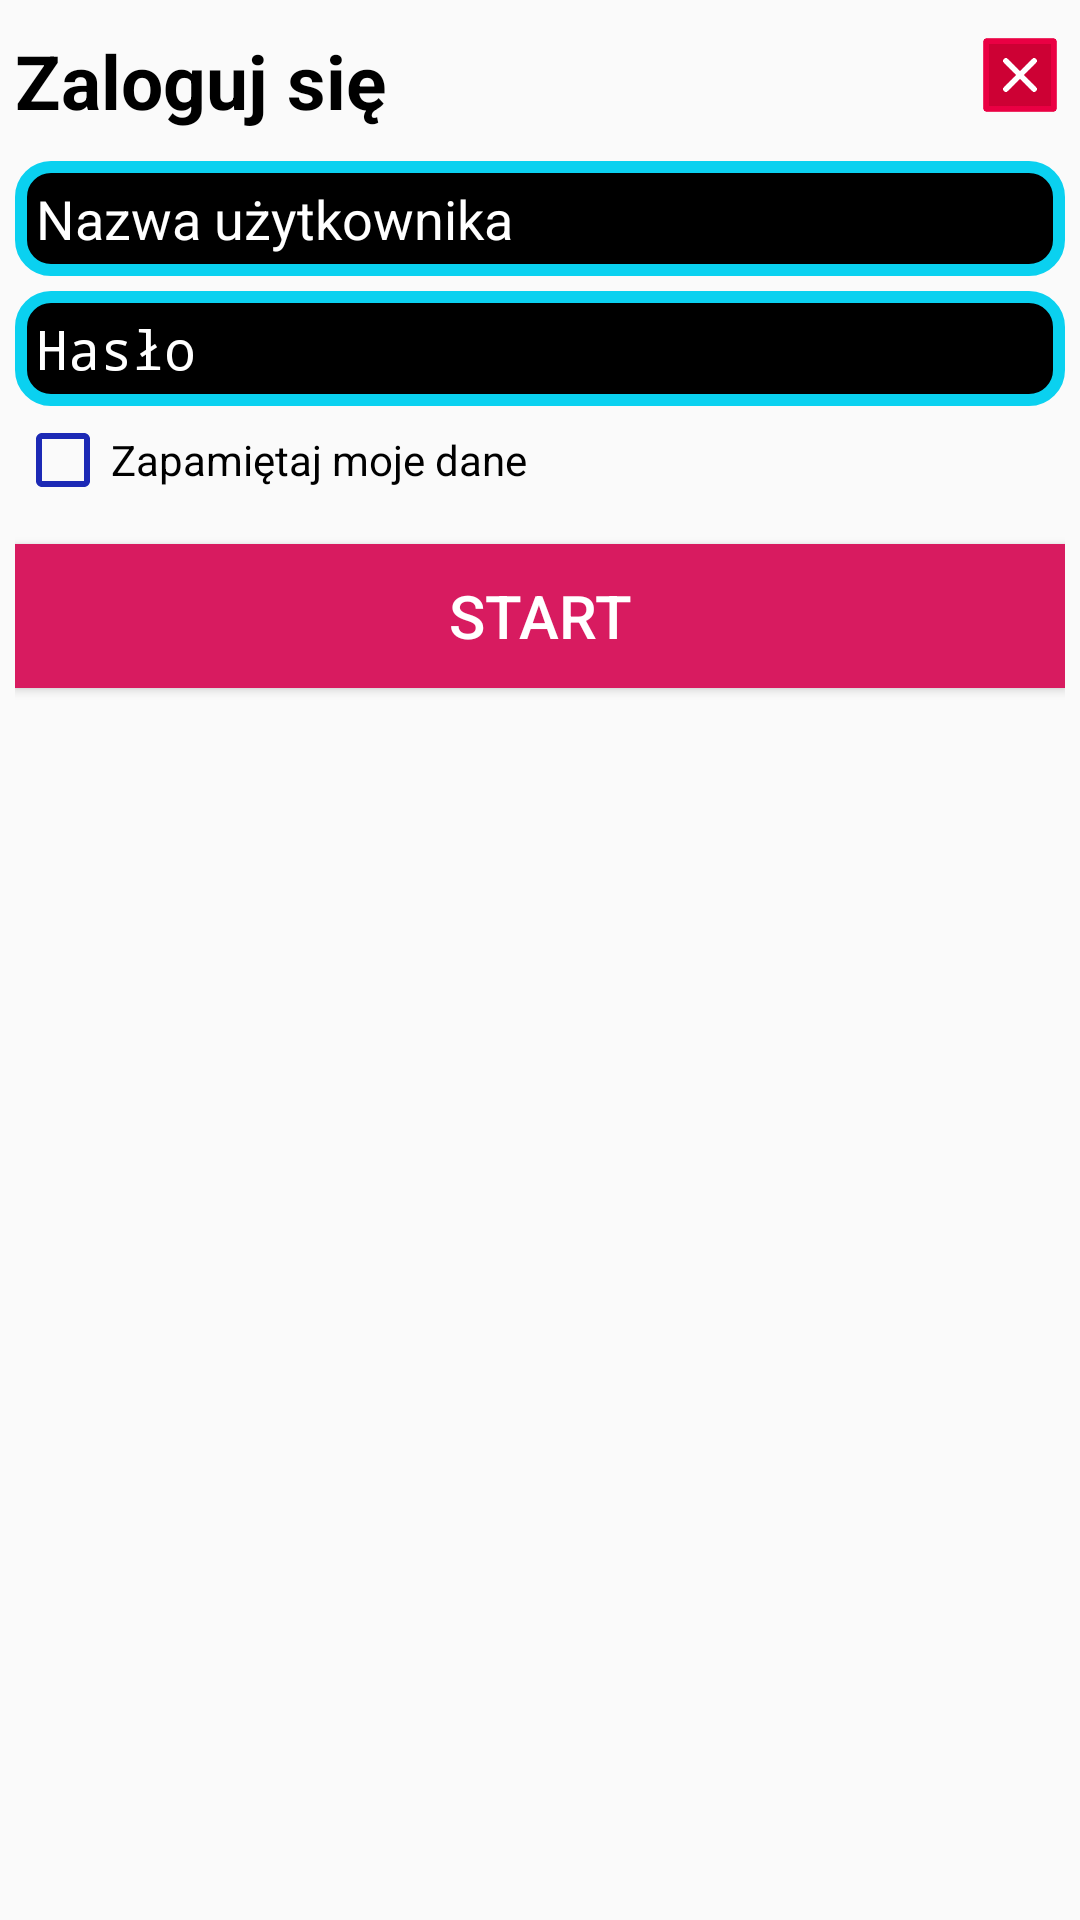

Named icons in this screenshot (1080 × 1920) and their centers, (x=x, y=y):
exit login: (x=1020, y=75)
